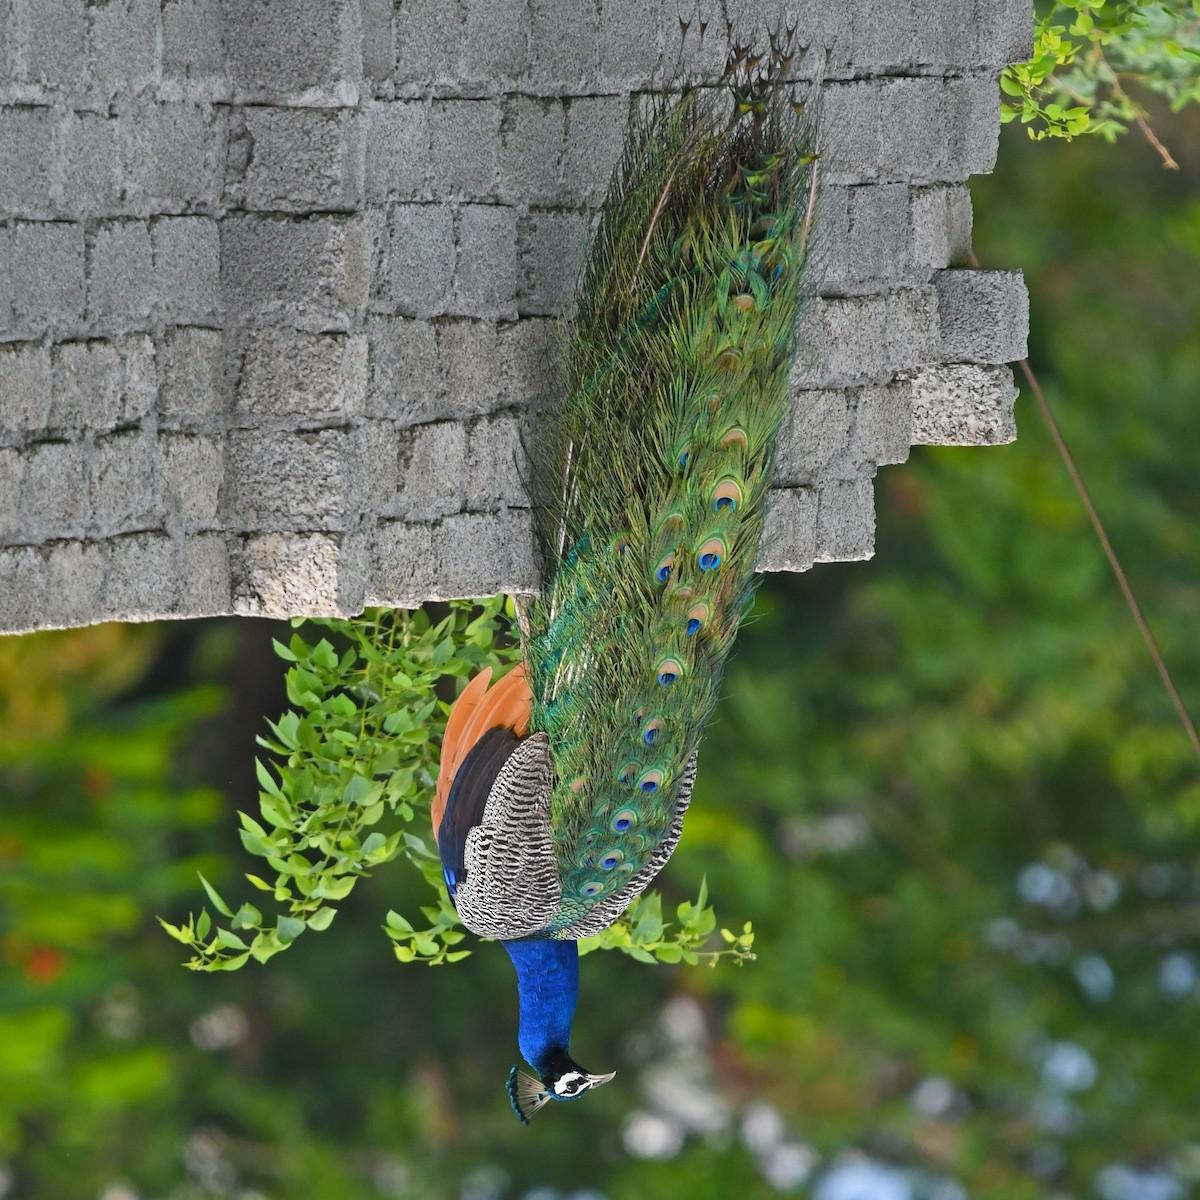peacock: (436, 88, 787, 1105)
